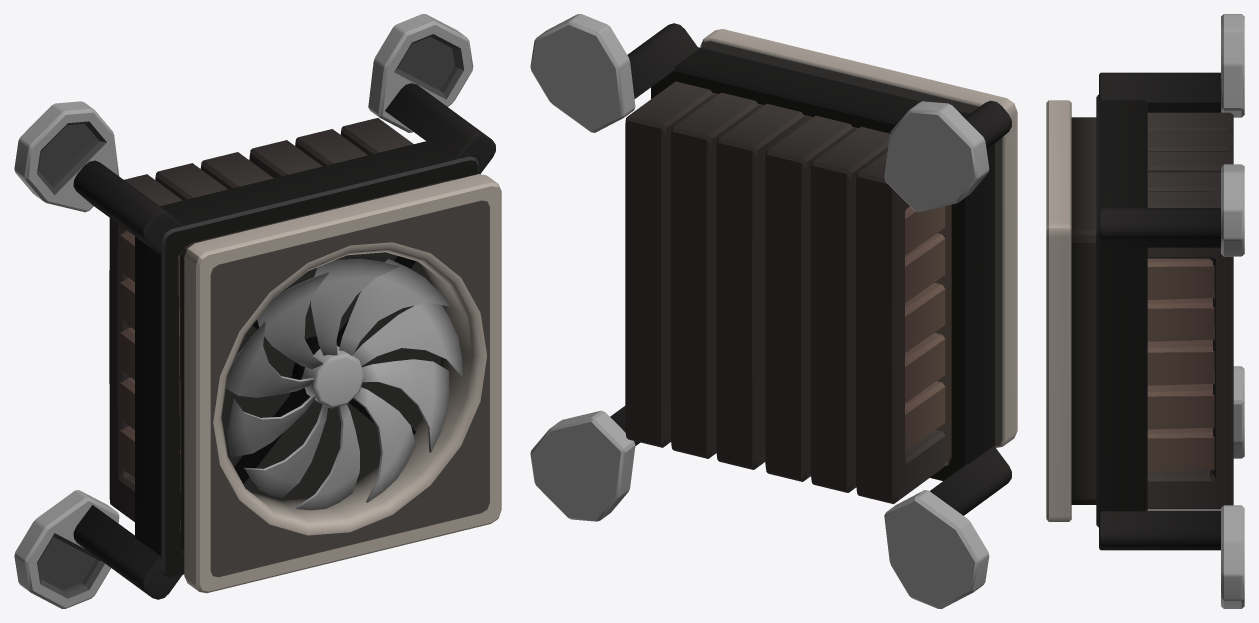
The model's file is Cooling_systems_lvl_04_V06.fbx.
3 renders of one model, left to right at view 1: azimuth 30°, elevation 25°; view 2: azimuth 150°, elevation 25°; view 3: azimuth 270°, elevation 25°, orthographic. The views are drawn at different scales.
Visible parts, largest first — view 1: Body_Cooling, Fan_Cooling; view 2: Body_Cooling; view 3: Body_Cooling.
Boxes of the visible parts, bbox=[...] form: Body_Cooling: bbox=[14, 14, 501, 608]; Fan_Cooling: bbox=[226, 259, 462, 510]; Body_Cooling: bbox=[530, 14, 1017, 608]; Body_Cooling: bbox=[1046, 14, 1244, 608].
Size of the model in its own units: 49.19 by 52.17 by 21.46.
